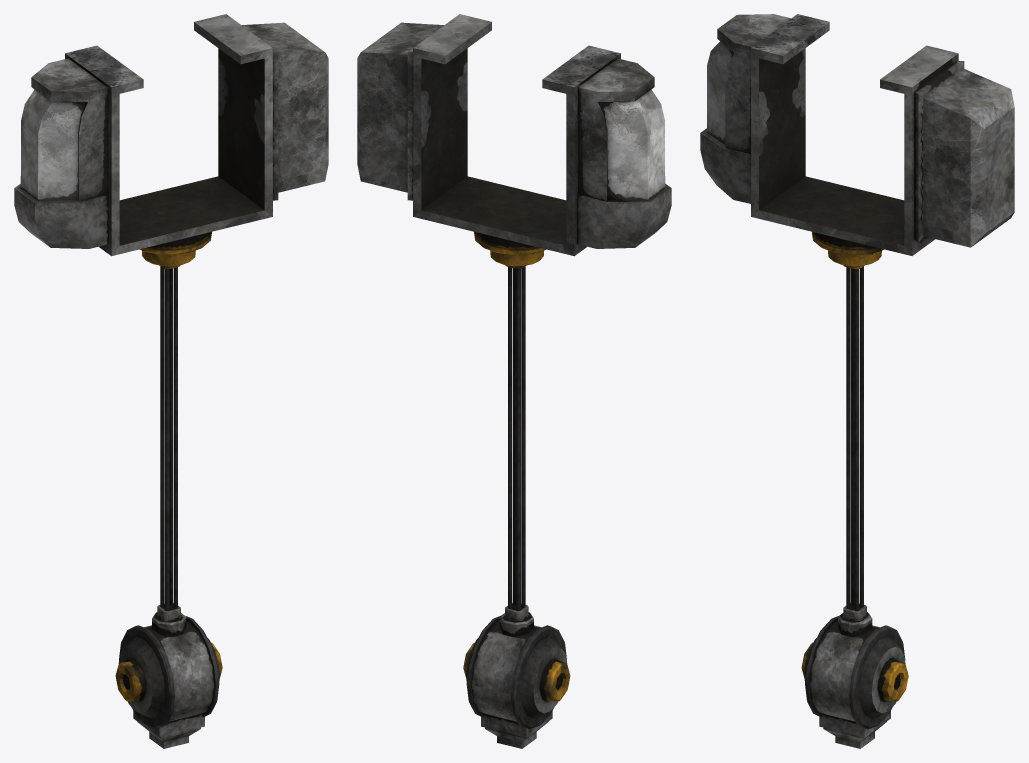
Rendered from prop_WH_D_crane_head.fbx.
The picture shows the model from 3 angles, left to right: view 1: azimuth 30°, elevation 25°; view 2: azimuth 150°, elevation 25°; view 3: azimuth 330°, elevation 25°; orthographic projection.
Parts seen in each view (by area): view 1: polySurface200; view 2: polySurface200; view 3: polySurface200.
Boxes of the visible parts, left/top/right/bottom form: polySurface200: left=14, top=14, right=328, bottom=748; polySurface200: left=357, top=14, right=671, bottom=748; polySurface200: left=700, top=14, right=1014, bottom=748.
Bounding box in the file's own units: 287 × 654 × 90.62.
